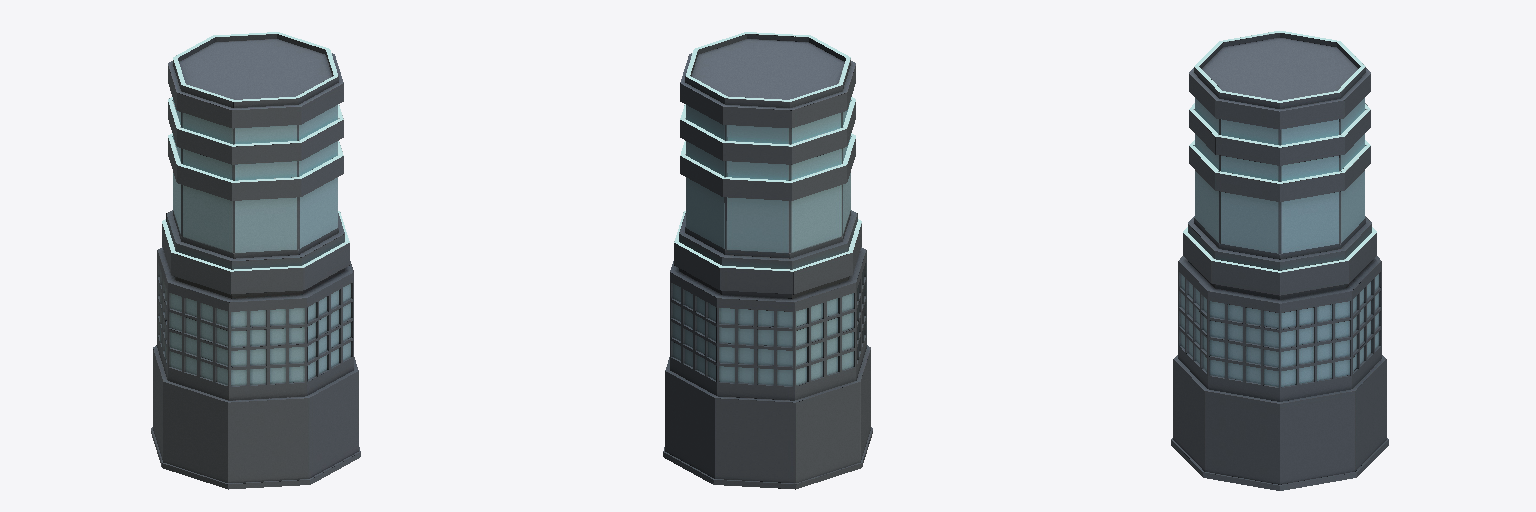
3 views of the same model, side by side, from view 1: azimuth 30°, elevation 25°; view 2: azimuth 150°, elevation 25°; view 3: azimuth 270°, elevation 25° (orthographic).
Parts seen in each view (by area): view 1: Silos_Cube.000; view 2: Silos_Cube.000; view 3: Silos_Cube.000.
Boxes of the visible parts, box(x1,y1,x2,y2) form: Silos_Cube.000: box(151, 32, 360, 489); Silos_Cube.000: box(663, 32, 872, 489); Silos_Cube.000: box(1171, 31, 1388, 490).
Bounding box in the file's own units: 39.97 × 76.42 × 39.86.
Materials: 3 (1 with a texture image).